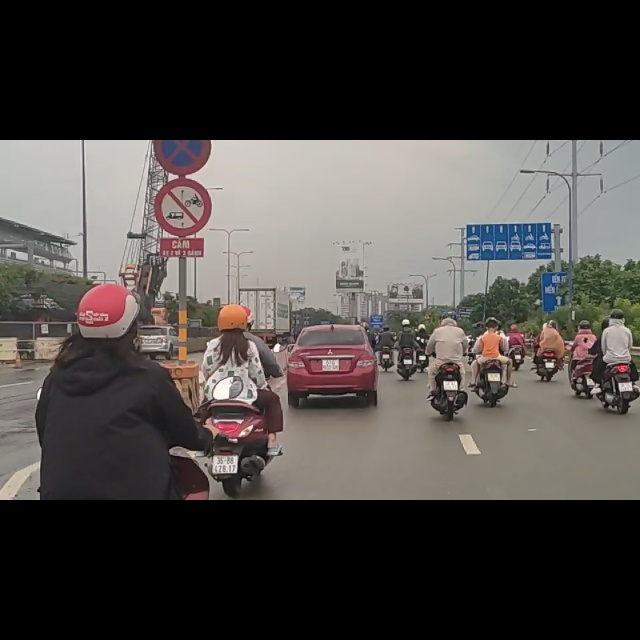bien_chi_dan: (155, 68, 211, 170), (154, 2, 211, 61)
